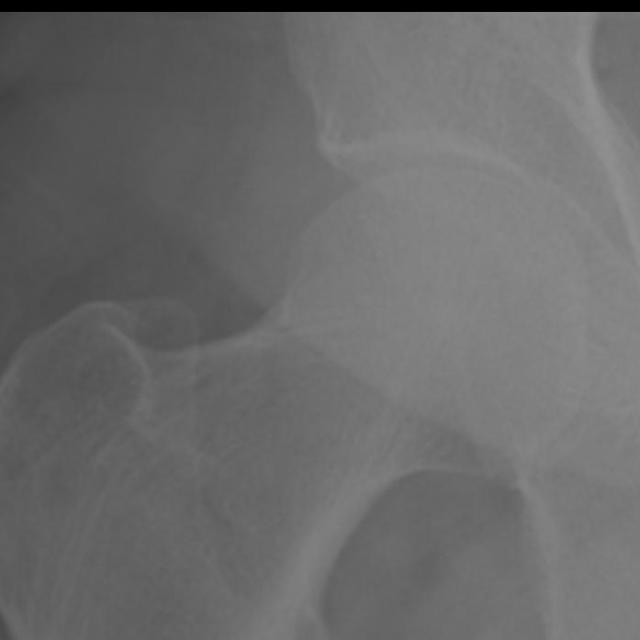Fitted_femural_head: (320, 169, 432, 320)
